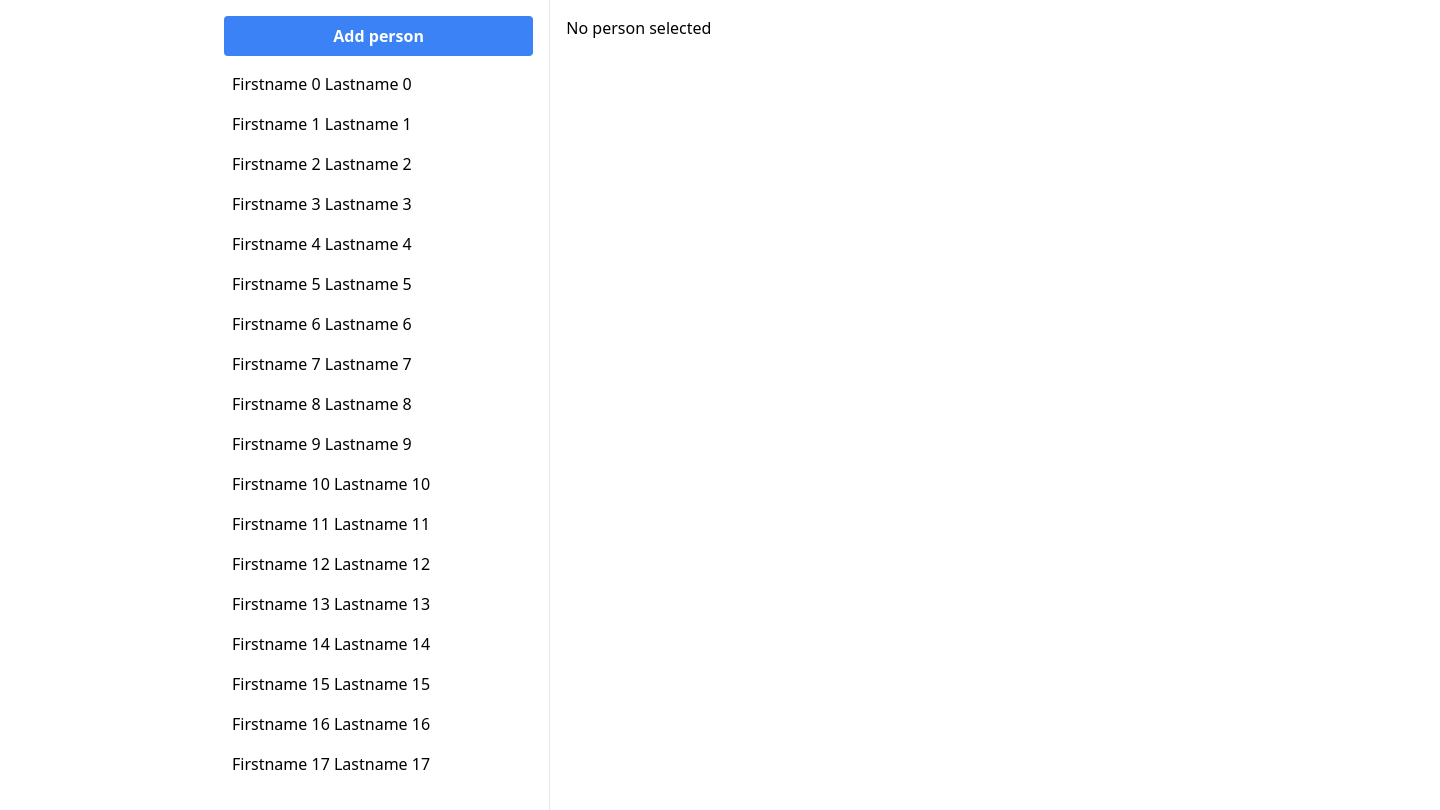
Test case: App › should show person details on click on a list entry
Click the list item "Firstname 0 Lastname 0" at (322, 84), box [232,73,412,95]
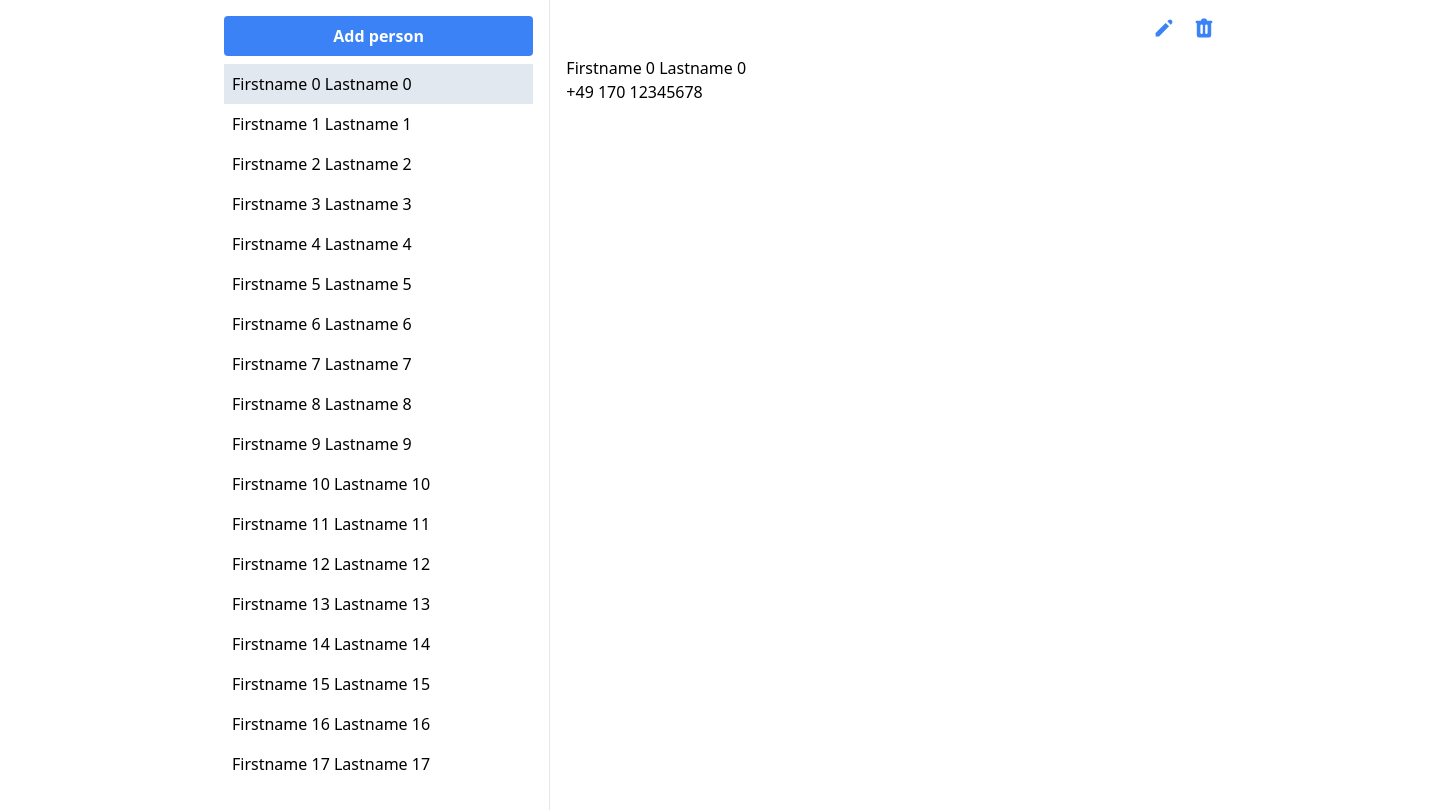
Now the element with test id "person-detail-container" shows "Firstname 0 Lastname 0", box [549,0,1232,809]
